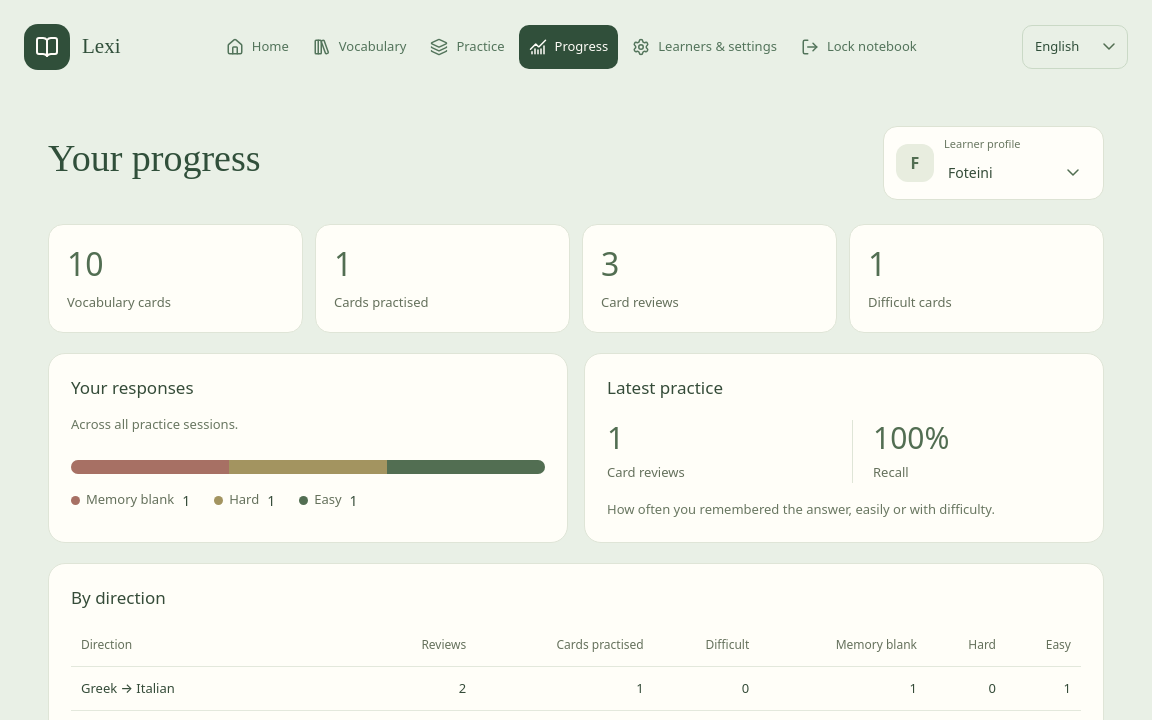
Test: Progress shows separate direction counts and switches to an empty learner without stale history
Expected: the text "Vocabulary cards" is shown, [67,293,171,311]
Expected: the text "3" is shown, [601,242,619,284]
Select "Alex" in the dropdown labelled "Learner profile". click: (1018, 172)
box: [944,156,1091,190]
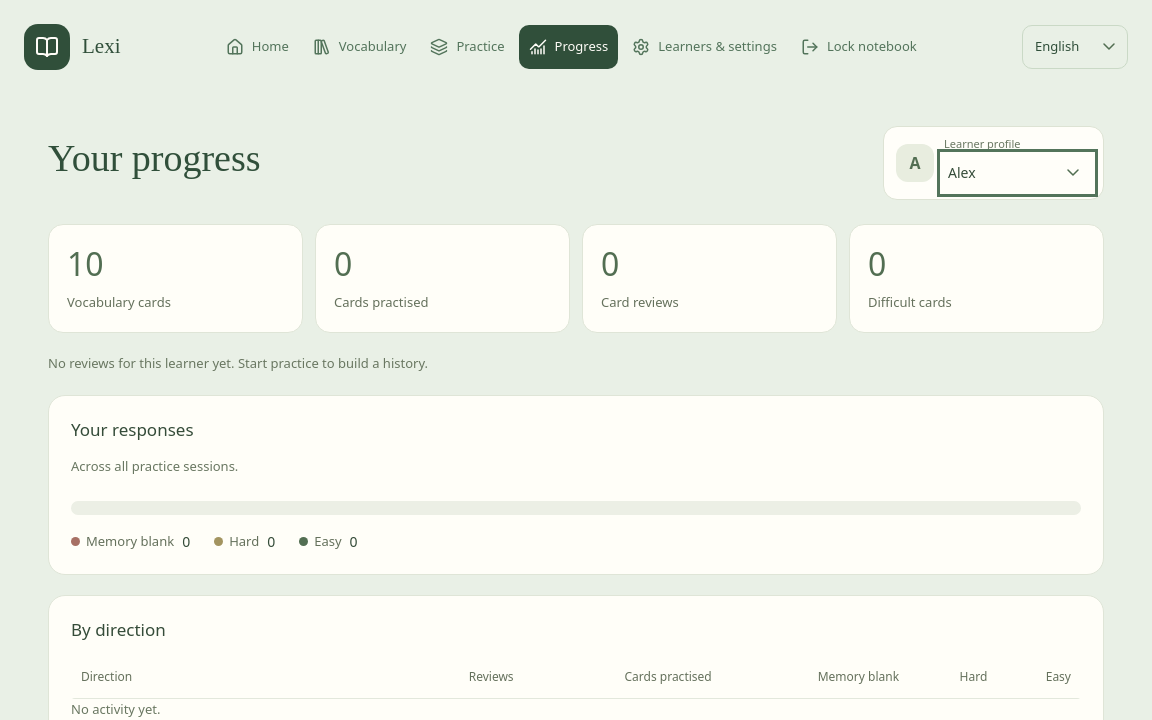
Expected: the text "No reviews for this learner yet. Start practice to build a history." is shown, [48,354,428,372]
Expected: the text "100%" is gone
